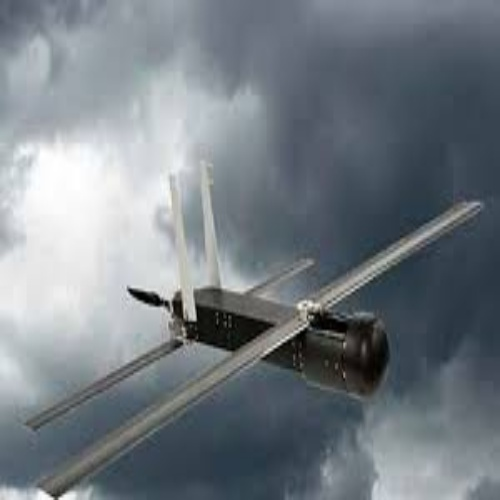uav738: (16, 162, 483, 500)
